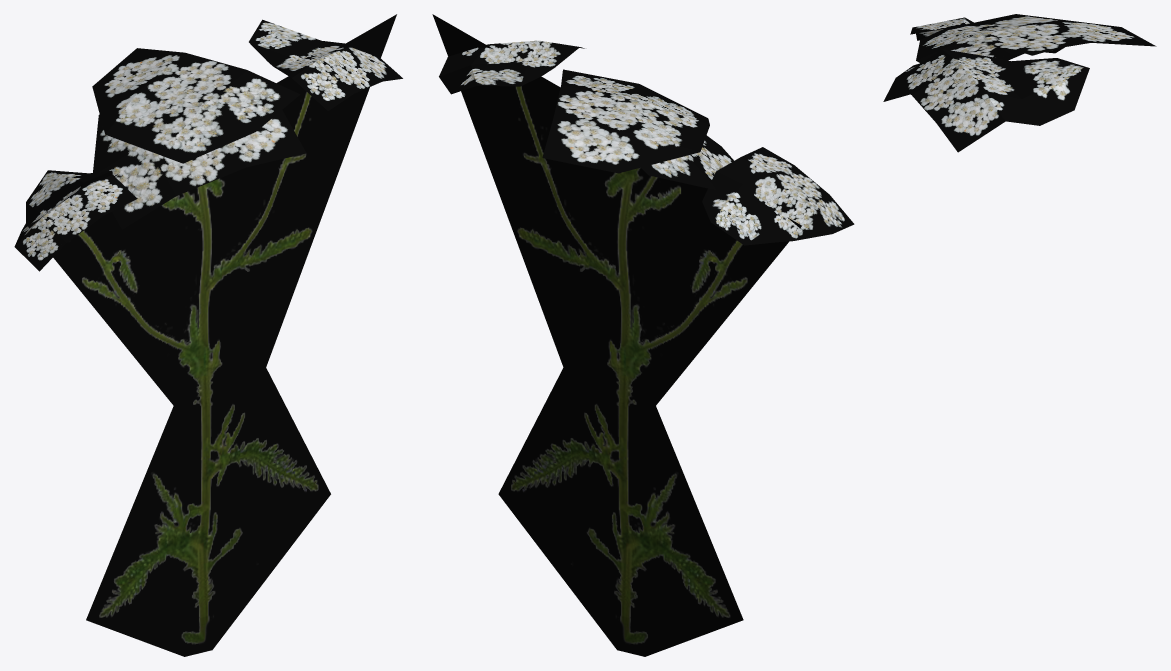
The model's file is 01_Achillea_millefolium_low_002.fbx.
3 views of the same model, side by side, from view 1: azimuth 30°, elevation 25°; view 2: azimuth 150°, elevation 25°; view 3: azimuth 270°, elevation 25° (orthographic). The views are drawn at different scales.
Visible parts, largest first — view 1: 01_Achillea_millefolium_low.002; view 2: 01_Achillea_millefolium_low.002; view 3: 01_Achillea_millefolium_low.002.
Part boxes in pixels (box(x1,y1,x2,y2)): 01_Achillea_millefolium_low.002: box(14, 14, 402, 656); 01_Achillea_millefolium_low.002: box(432, 14, 854, 656); 01_Achillea_millefolium_low.002: box(883, 14, 1156, 152).
Bounding box in the file's own units: 0.1065 × 0.1536 × 0.0578.
